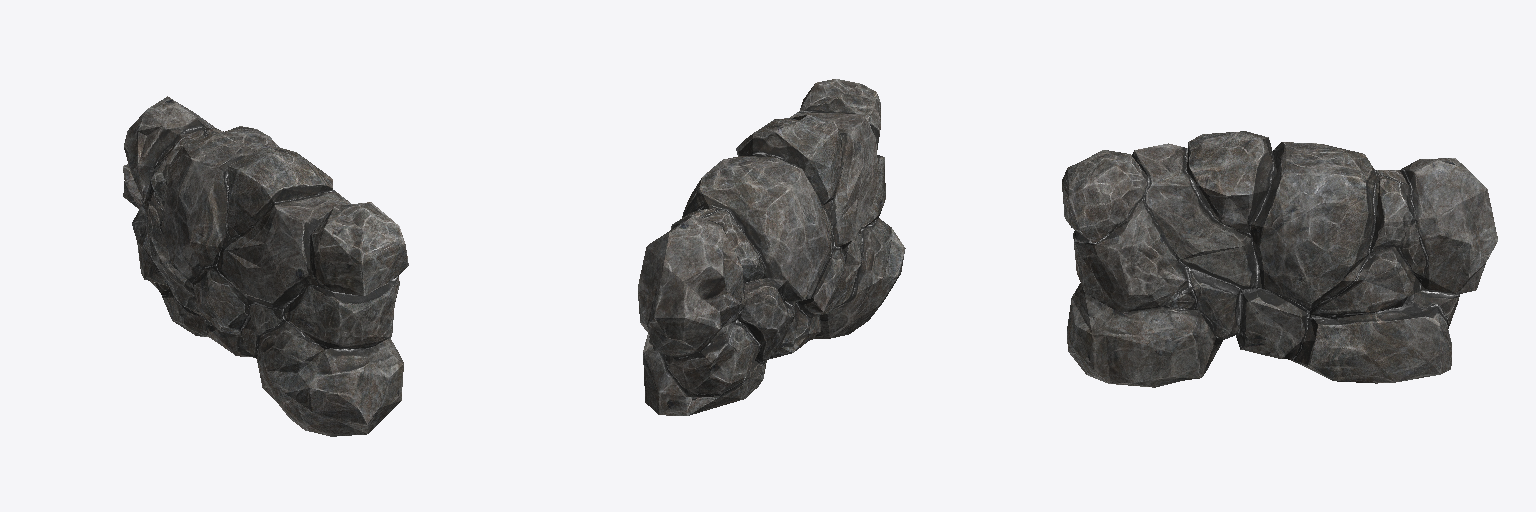
The picture shows the model from 3 angles: view 1: azimuth 30°, elevation 25°; view 2: azimuth 150°, elevation 25°; view 3: azimuth 270°, elevation 25°; orthographic projection.
Parts seen in each view (by area): view 1: Rocks_03; view 2: Rocks_03; view 3: Rocks_03.
Boxes of the visible parts, x1=… form: Rocks_03: x1=123, y1=96, x2=408, y2=436; Rocks_03: x1=638, y1=79, x2=905, y2=415; Rocks_03: x1=1062, y1=131, x2=1497, y2=387.
Bounding box in the file's own units: 82.45 × 148 × 245.
1 materials, 1 textured.